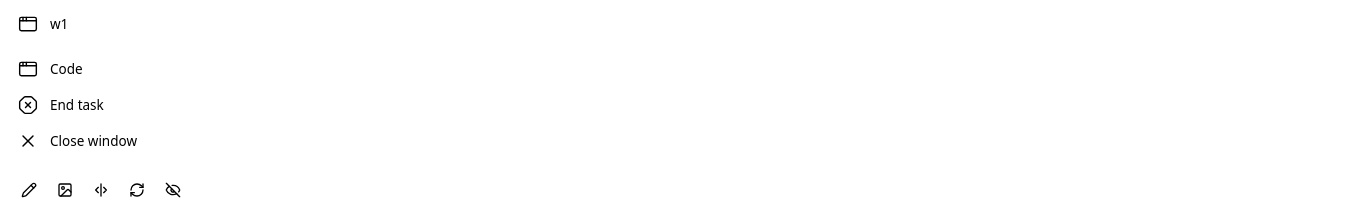
Scenario: AppMenuPanel › disarms when focus moves away
Later steps or results of the test are not shown.
Click the button "End task" at (77,105), box [6,87,1360,123]
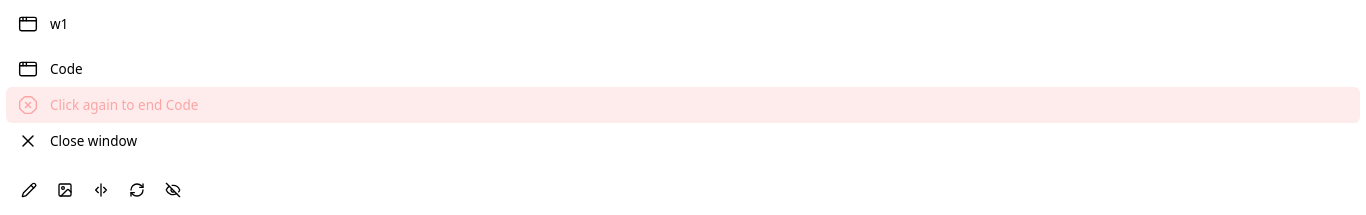
Leave the button named "End task", box [6,87,1360,123]
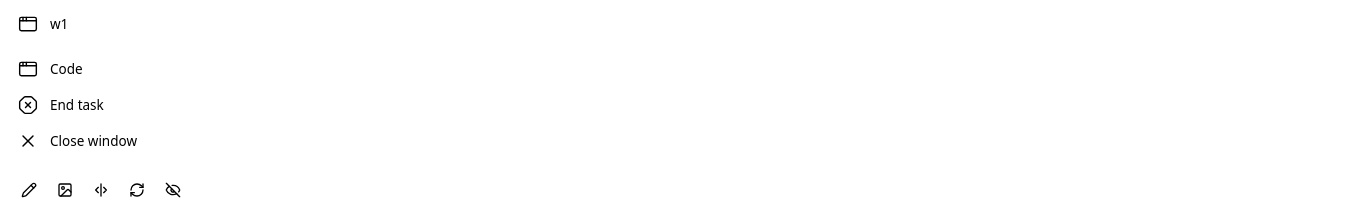
Result: the button "End task" is shown at [6,87,1360,123]
